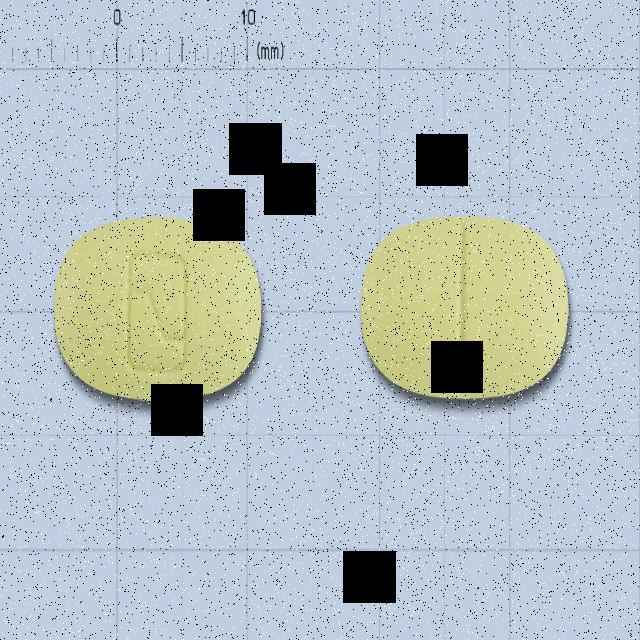Claroma: (54, 210, 264, 406)
